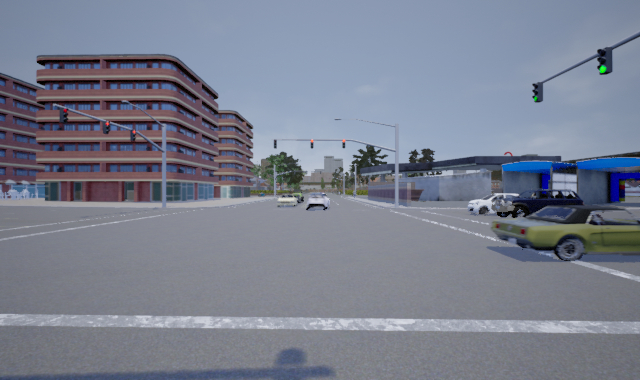traffic_light: (596, 46, 613, 76), (531, 80, 545, 104), (58, 107, 70, 125), (102, 118, 112, 136), (129, 127, 137, 142), (342, 137, 347, 152), (310, 137, 315, 150)
vehicle: (491, 203, 639, 264), (488, 187, 588, 221), (466, 193, 530, 216), (305, 193, 331, 211), (277, 192, 298, 208)
